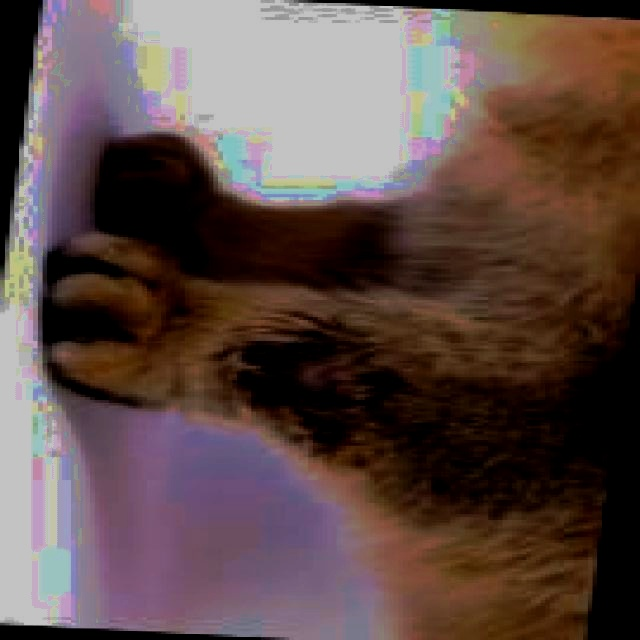ringworm: (253, 357, 386, 413)
